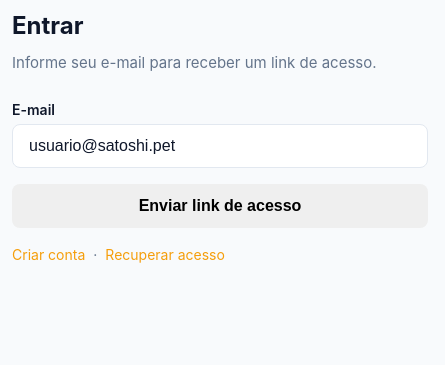
EntrarComponent › deve exibir mensagem de erro quando requestMagicLink falha
The width and height of the screenshot is (445, 365).
Step 1. Click the submit button → (220, 206), box [12, 184, 428, 228]
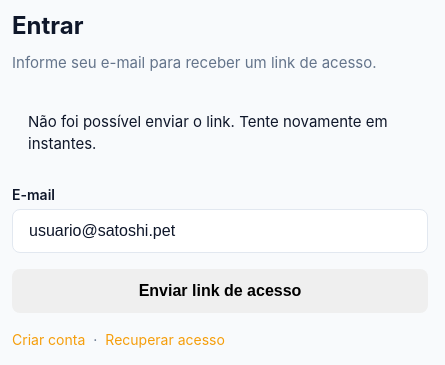
Check: the message "Não foi possível enviar o link. Tente novamente em instantes." is shown, box [12, 98, 428, 168]
